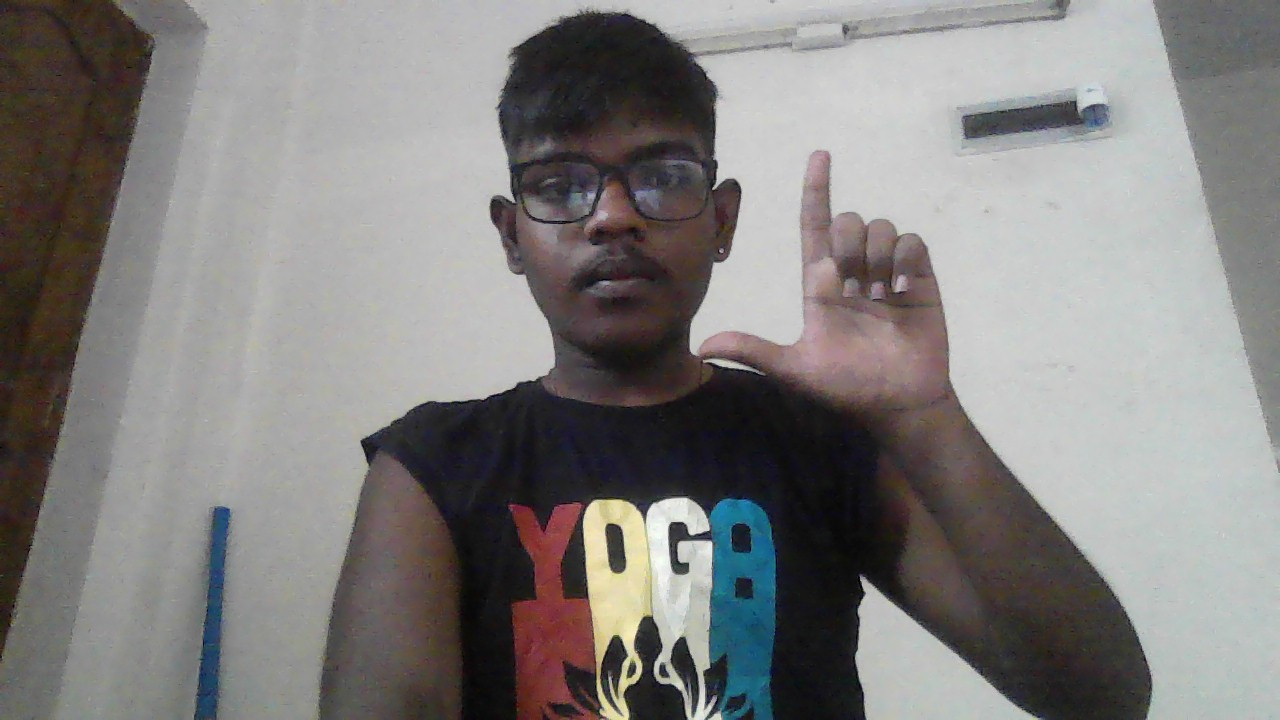L: (700, 148, 951, 406)
